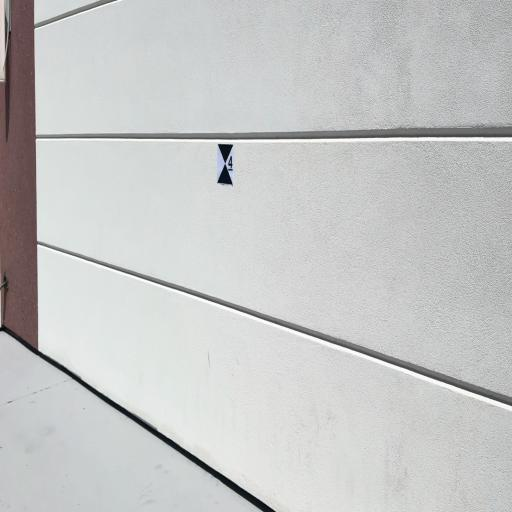target4: (216, 143, 234, 185)
